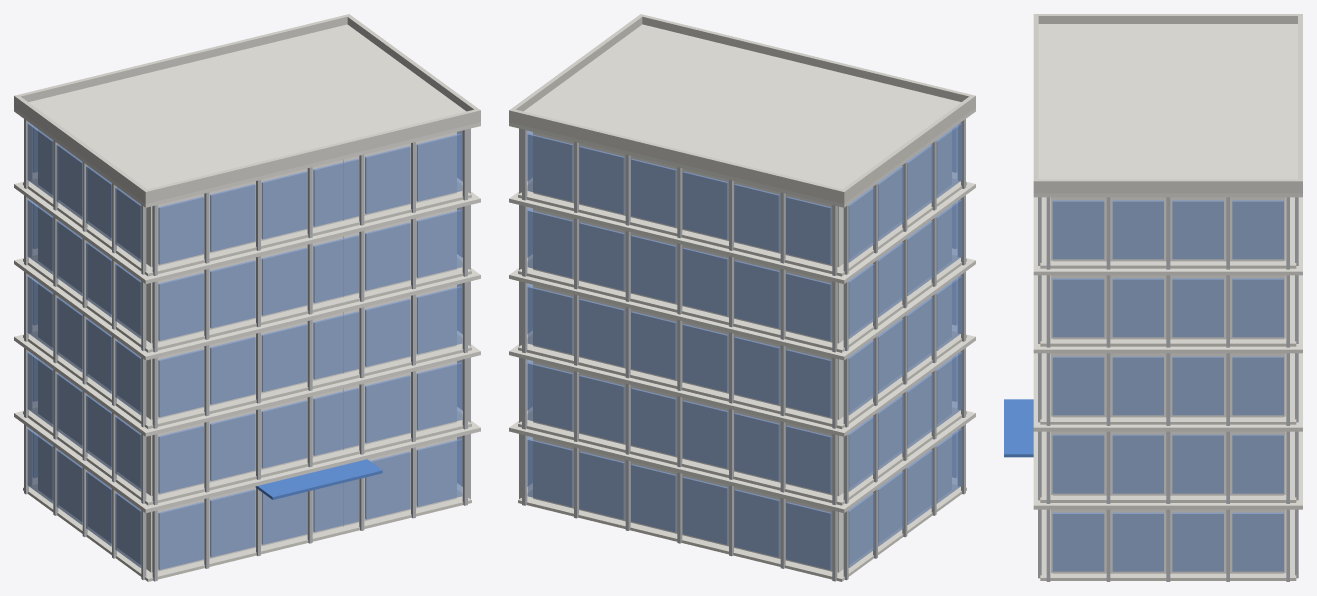
File: sunrise-office-tower-5f-6r.glb
3 renders of one model, left to right at view 1: azimuth 30°, elevation 25°; view 2: azimuth 150°, elevation 25°; view 3: azimuth 270°, elevation 25°, orthographic. The views are drawn at different scales.
Parts seen in each view (by area): view 1: shell_roof, wall_room_4_1_1, wall_room_1_1_1, wall_room_2_1_1, wall_room_3_1_1, wall_room_0_1_1, wall_room_3_5_1, wall_room_2_5_1, wall_room_1_5_1, wall_room_4_5_1, wall_room_0_5_1, shell_parapet_f (+93 smaller); view 2: shell_roof, wall_room_4_0_0, wall_room_1_0_0, wall_room_2_0_0, wall_room_3_0_0, wall_room_0_0_0, shell_parapet_b, wall_room_2_2_0, wall_room_0_2_0, wall_room_3_2_0, wall_room_4_2_0, wall_room_1_2_0 (+92 smaller); view 3: shell_roof, wall_room_0_5_3, wall_room_1_5_3, wall_room_2_5_3, wall_room_3_5_3, wall_room_4_5_3, wall_room_0_3_3, wall_room_1_3_3, wall_room_2_3_3, wall_room_3_3_3, wall_room_4_3_3, shell_parapet_r (+41 smaller).
Part boxes in pixels (x1,y1,x2,y2): shell_roof: (28,24,466,189); wall_room_4_1_1: (152,171,294,266); wall_room_1_1_1: (152,401,294,495); wall_room_2_1_1: (152,324,294,419); wall_room_3_1_1: (152,248,294,342); wall_room_0_1_1: (152,486,294,571); wall_room_3_5_1: (343,208,456,297); wall_room_2_5_1: (343,284,456,373); wall_room_1_5_1: (343,361,456,449); wall_room_4_5_1: (343,132,456,220); wall_room_0_5_1: (343,437,456,526); shell_parapet_f: (143,109,480,203); shell_roof: (523,24,961,189); wall_room_4_0_0: (695,171,837,266); wall_room_1_0_0: (695,401,837,495); wall_room_2_0_0: (695,324,837,419); wall_room_3_0_0: (695,248,837,342); wall_room_0_0_0: (695,477,837,571); shell_parapet_b: (509,109,846,203); wall_room_2_2_0: (610,303,695,385); wall_room_0_2_0: (610,456,695,538); wall_room_3_2_0: (610,227,695,309); wall_room_4_2_0: (610,151,695,232); wall_room_1_2_0: (610,380,695,461); shell_roof: (1038,24,1297,179); wall_room_0_5_3: (1052,509,1171,573); wall_room_1_5_3: (1052,431,1171,495); wall_room_2_5_3: (1052,353,1171,417); wall_room_3_5_3: (1052,275,1171,339); wall_room_4_5_3: (1052,197,1171,261); wall_room_0_3_3: (1171,509,1283,573); wall_room_1_3_3: (1171,431,1283,495); wall_room_2_3_3: (1171,353,1283,417); wall_room_3_3_3: (1171,275,1283,339); wall_room_4_3_3: (1171,197,1283,261); shell_parapet_r: (1033,179,1302,193).
Size of what is drawn, in the model's own units: 14.7 by 16.5 by 11.1.
